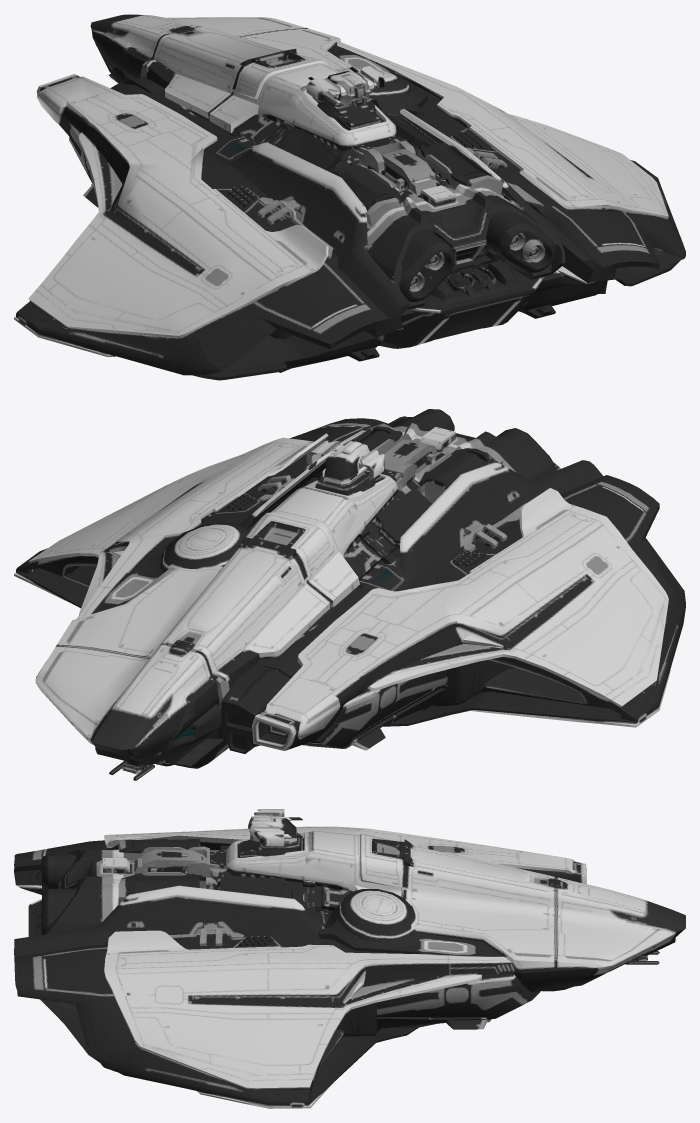
Rendered from runner.glb.
3 views of the same model, one above another, from view 1: azimuth 30°, elevation 25°; view 2: azimuth 150°, elevation 25°; view 3: azimuth 270°, elevation 25° (orthographic). The views are drawn at different scales.
Parts seen in each view (by area): view 1: mesh_mercury_star_runner_1_b_mercury_star_runner_1_b_mtl_shi; view 2: mesh_mercury_star_runner_1_b_mercury_star_runner_1_b_mtl_shi; view 3: mesh_mercury_star_runner_1_b_mercury_star_runner_1_b_mtl_shi.
Boxes of the visible parts, x1,y1,x2,y2 form: mesh_mercury_star_runner_1_b_mercury_star_runner_1_b_mtl_shi: [14, 14, 685, 380]; mesh_mercury_star_runner_1_b_mercury_star_runner_1_b_mtl_shi: [14, 409, 685, 780]; mesh_mercury_star_runner_1_b_mercury_star_runner_1_b_mtl_shi: [14, 809, 685, 1108].
Size of the model in its own units: 5.98 by 1.78 by 6.51.
Materials: 1 (1 with a texture image).
